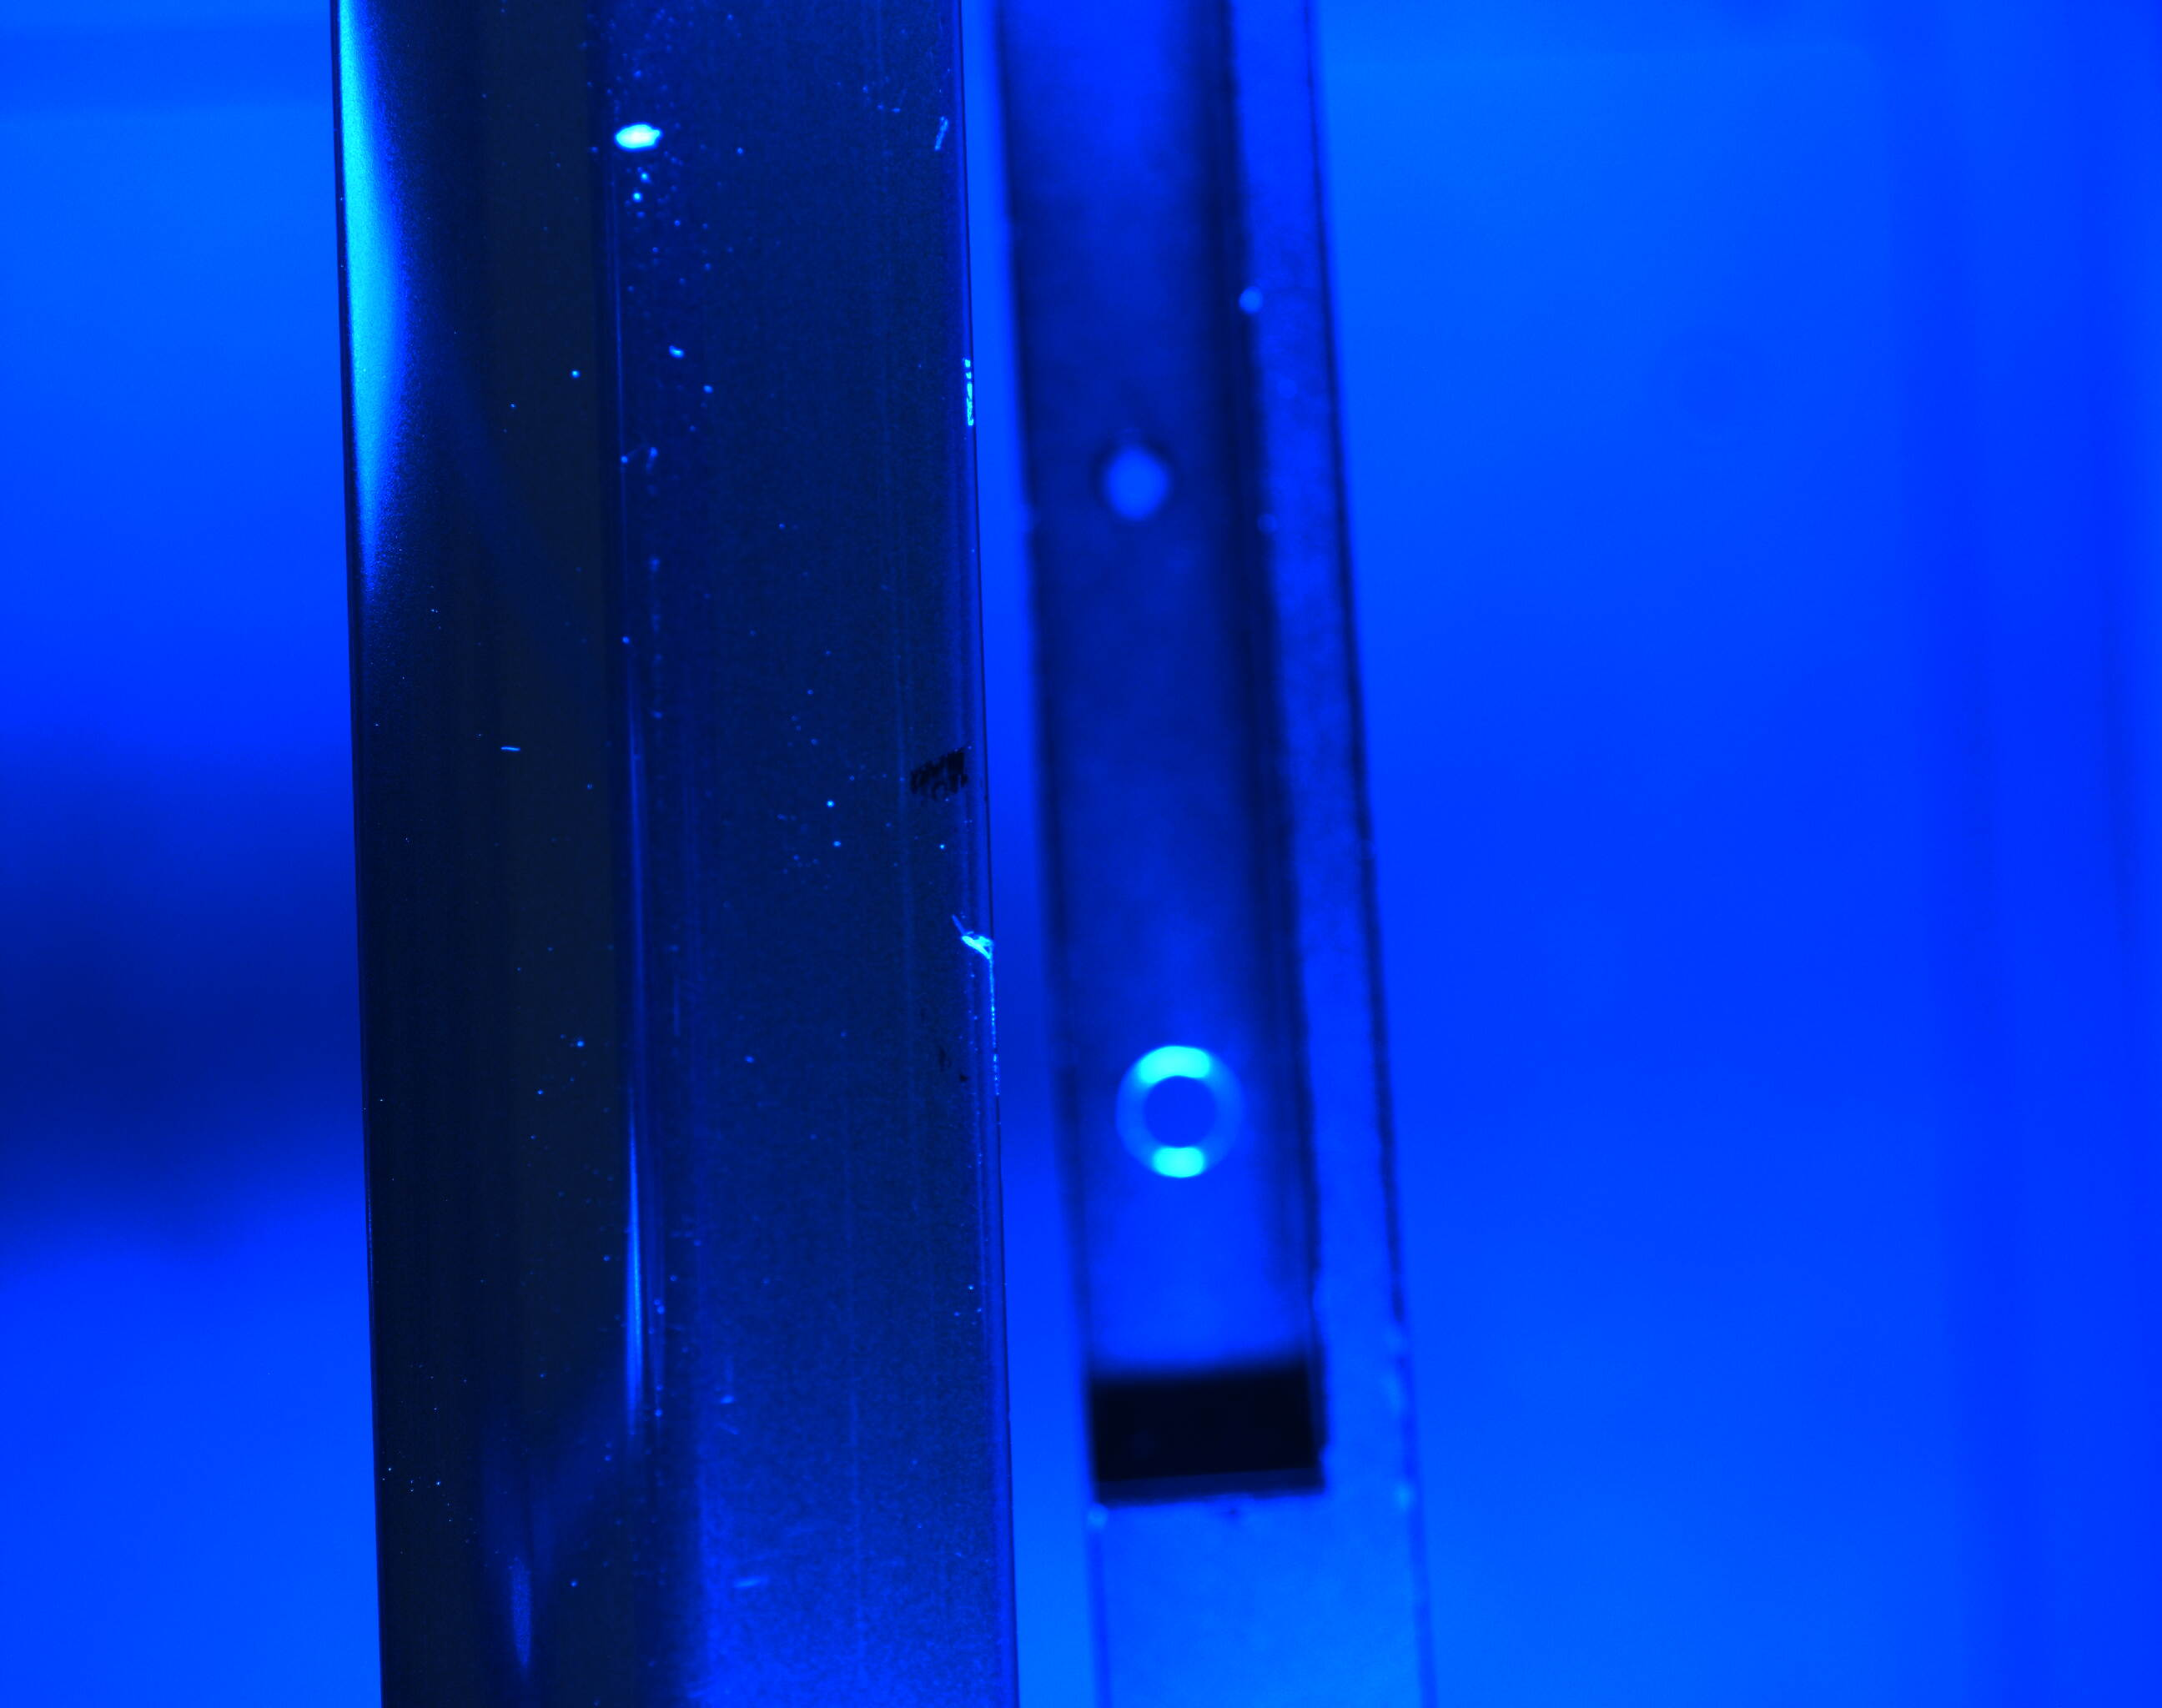NG: (948, 915, 1018, 1041), (600, 109, 690, 200), (660, 327, 723, 418), (942, 342, 986, 469), (546, 348, 611, 430), (918, 105, 963, 181), (490, 728, 532, 786), (558, 1016, 595, 1074)
